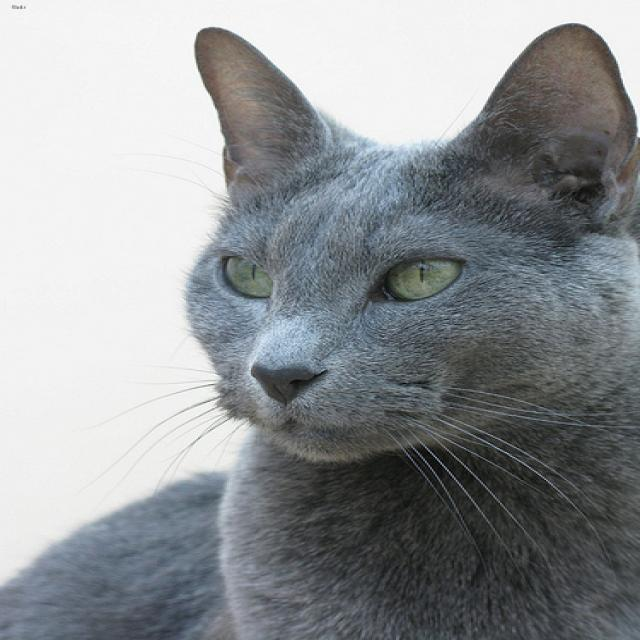Russian_Blue: (186, 22, 633, 457)
